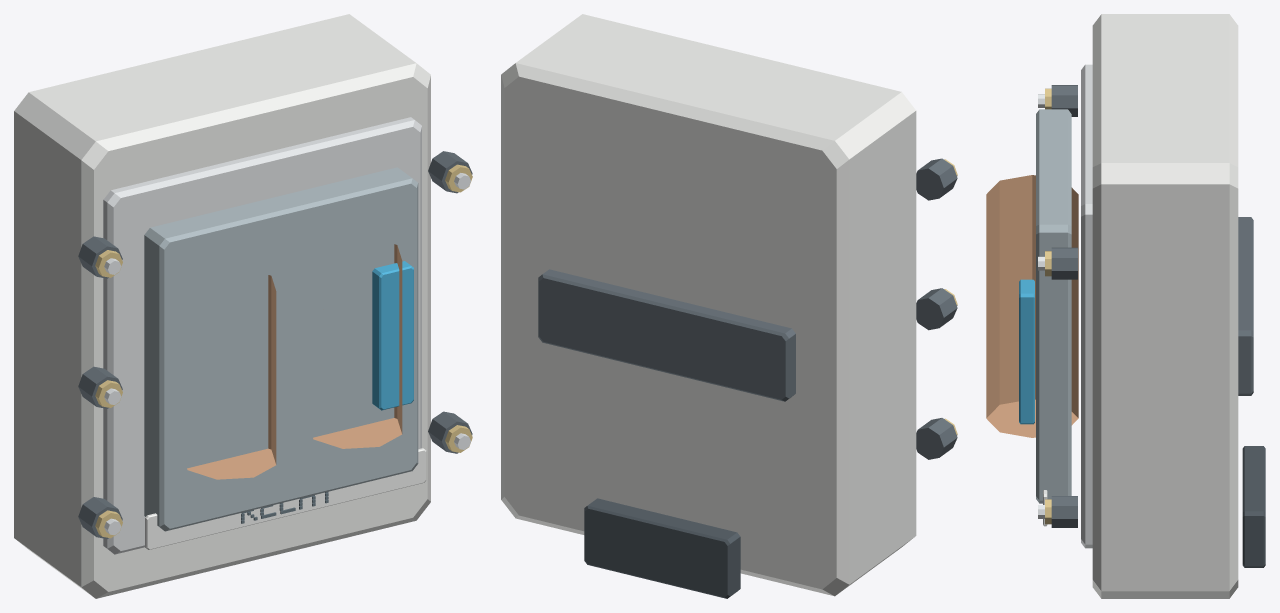
The model's file is auxiliaryRelay.glb.
The picture shows the model from 3 angles, left to right: view 1: azimuth 30°, elevation 25°; view 2: azimuth 150°, elevation 25°; view 3: azimuth 270°, elevation 25°; orthographic projection. The views are drawn at different scales.
Visible parts, largest first — view 1: auxiliaryRelay-board; view 2: auxiliaryRelay-board; view 3: auxiliaryRelay-board.
Part boxes in pixels (<box>): auxiliaryRelay-board: <box>14,14,472,598</box>; auxiliaryRelay-board: <box>501,14,957,598</box>; auxiliaryRelay-board: <box>986,14,1265,598</box>.
Size of the model in its own units: 2.36 by 2.78 by 1.57.
